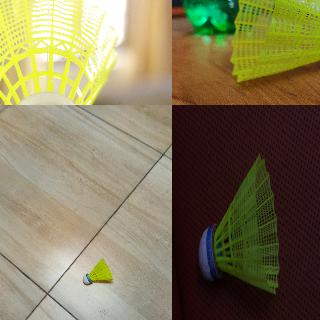shuttlecock: (0, 0, 119, 104), (198, 153, 278, 295), (229, 0, 319, 84), (82, 258, 111, 286)
